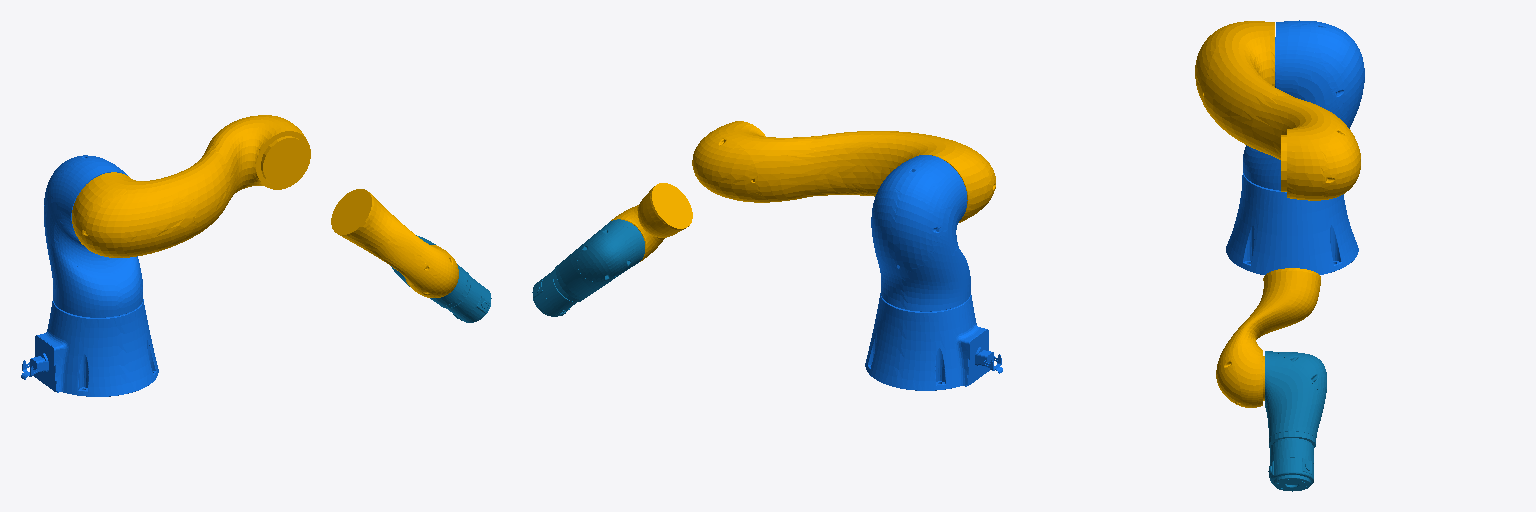
The robot description file, URDF, robot "hsr_co602a":
<robot
  name="hsr_co602a">

<!--
  <link name="world"/>

  <joint name="fixed" type="fixed">
    <parent link="world"/>
    <child link="link_base"/>
	<origin
      xyz="0 0 1"
      rpy="0 0 0" />
  </joint> 
-->
  <link
    name="link_base">
    <inertial>
      <origin
        xyz="-0.0024614 3.992E-07 0.076752"
        rpy="0 0 0" />
      <mass
        value="4.8818" />
      <inertia
        ixx="0"
        ixy="0"
        ixz="0"
        iyy="0"
        iyz="0"
        izz="0" />
    </inertial>
    <visual>
      <origin
        xyz="0 0 0"
        rpy="0 0 0" />
      <geometry>
        <mesh
          filename="package://hsr_description/meshes/co602a/link_base.STL" />
      </geometry>
      <material
        name="">
        <color
          rgba="0.1137 0.5098 0.97 1" />
      </material>
    </visual>
    <collision>
      <origin
        xyz="0 0 0"
        rpy="0 0 0" />
      <geometry>
        <mesh
          filename="package://hsr_description/meshes/co602a/link_base.STL" />
      </geometry>
    </collision>
  </link>
  <link
    name="link1">
    <inertial>
      <origin
        xyz="-3.4523E-06 -0.02843 0.064536"
        rpy="0 0 0" />
      <mass
        value="4.9839" />
      <inertia
        ixx="0"
        ixy="0"
        ixz="0"
        iyy="0"
        iyz="0"
        izz="0" />
    </inertial>
    <visual>
      <origin
        xyz="0 0 0"
        rpy="0 0 0" />
      <geometry>
        <mesh
          filename="package://hsr_description/meshes/co602a/link1.STL" />
      </geometry>
      <material
        name="">
        <color
          rgba="0.1137 0.5098 0.97 1" />
      </material>
    </visual>
    <collision>
      <origin
        xyz="0 0 0"
        rpy="0 0 0" />
      <geometry>
        <mesh
          filename="package://hsr_description/meshes/co602a/link1.STL" />
      </geometry>
    </collision>
  </link>
  <joint
    name="joint_1"
    type="revolute">
    <origin
      xyz="0 0 0.352"
      rpy="3.1416 0 -3.4694E-18" />
    <parent
      link="link_base" />
    <child
      link="link1" />
    <axis
      xyz="0 0 -1" />
    <limit
      lower="-3.490658503988"
      upper="3.490658503988"
      effort="28"
      velocity="3.2" />
    <safety_controller
      soft_upper_limit="3.481931857728"
      soft_lower_limit="-3.481931857728"
      k_position="100"
      k_velocity="10" />
  </joint>
  <link
    name="link2">
    <inertial>
      <origin
        xyz="4.7574E-06 -0.18488 -0.037843"
        rpy="0 0 0" />
      <mass
        value="6.6939" />
      <inertia
        ixx="0"
        ixy="0"
        ixz="0"
        iyy="0"
        iyz="0"
        izz="0" />
    </inertial>
    <visual>
      <origin
        xyz="0 0 0"
        rpy="0 0 0" />
      <geometry>
        <mesh
          filename="package://hsr_description/meshes/co602a/link2.STL" />
      </geometry>
      <material
        name="">
        <color
          rgba="0.97 0.7 0 1" />
      </material>
    </visual>
    <collision>
      <origin
        xyz="0 0 0"
        rpy="0 0 0" />
      <geometry>
        <mesh
          filename="package://hsr_description/meshes/co602a/link2.STL" />
      </geometry>
    </collision>
  </link>
  <joint
    name="joint_2"
    type="revolute">
    <origin
      xyz="0 0 0"
      rpy="1.5708 -1.5708 0" />
    <parent
      link="link1" />
    <child
      link="link2" />
    <axis
      xyz="0 0 1" />
    <limit
      lower="-2.268928027592"
      upper="1"
      effort="28"
      velocity="3.2" />
    <safety_controller
      soft_upper_limit="1"
      soft_lower_limit="-2.260201381332"
      k_position="100"
      k_velocity="10" />
  </joint>
  <link
    name="link3">
    <inertial>
      <origin
        xyz="-4.098E-05 -0.085254 -0.035956"
        rpy="0 0 0" />
      <mass
        value="2.3223" />
      <inertia
        ixx="0"
        ixy="0"
        ixz="0"
        iyy="0"
        iyz="0"
        izz="0" />
    </inertial>
    <visual>
      <origin
        xyz="0 0 0"
        rpy="0 0 0" />
      <geometry>
        <mesh
          filename="package://hsr_description/meshes/co602a/link3.STL" />
      </geometry>
      <material
        name="">
        <color
          rgba="0.1137 0.5098 0.97 1" />
      </material>
    </visual>
    <collision>
      <origin
        xyz="0 0 0"
        rpy="0 0 0" />
      <geometry>
        <mesh
          filename="package://hsr_description/meshes/co602a/link3.STL" />
      </geometry>
    </collision>
  </link>
  <joint
    name="joint_3"
    type="revolute">
    <origin
      xyz="0 -0.4 0"
      rpy="6.3741E-17 1.5386E-16 -1.5708" />
    <parent
      link="link2" />
    <child
      link="link3" />
    <axis
      xyz="0 0 1" />
    <limit
      lower="1"
      upper="3.665191429188"
      effort="28"
      velocity="3.2" />
    <safety_controller
      soft_upper_limit="3.656464782928"
      soft_lower_limit="0.008726646259"
      k_position="100"
      k_velocity="10" />
  </joint>
  <link
    name="link4">
    <inertial>
      <origin
        xyz="0.049627 2.6934E-06 0.3246"
        rpy="0 0 0" />
      <mass
        value="1.3111" />
      <inertia
        ixx="0"
        ixy="0"
        ixz="0"
        iyy="0"
        iyz="0"
        izz="0" />
    </inertial>
    <visual>
      <origin
        xyz="0 0 0"
        rpy="0 0 0" />
      <geometry>
        <mesh
          filename="package://hsr_description/meshes/co602a/link4.STL" />
      </geometry>
      <material
        name="">
        <color
          rgba="0.97 0.7 0 1" />
      </material>
    </visual>
    <collision>
      <origin
        xyz="0 0 0"
        rpy="0 0 0" />
      <geometry>
        <mesh
          filename="package://hsr_description/meshes/co602a/link4.STL" />
      </geometry>
    </collision>
  </link>
  <joint
    name="joint_4"
    type="revolute">
    <origin
      xyz="0 0 0"
      rpy="1.5708 1.5708 0" />
    <parent
      link="link3" />
    <child
      link="link4" />
    <axis
      xyz="0 0 1" />
    <limit
      lower="-3.141592653589"
      upper="3.141592653589"
      effort="28"
      velocity="3.2" />
    <safety_controller
      soft_upper_limit="3.132866007329"
      soft_lower_limit="-3.132866007329"
      k_position="100"
      k_velocity="10" />
  </joint>
  <link
    name="link5">
    <inertial>
      <origin
        xyz="1.2952E-06 -0.043824 0.0021728"
        rpy="0 0 0" />
      <mass
        value="1.1683" />
      <inertia
        ixx="0"
        ixy="0"
        ixz="0"
        iyy="0"
        iyz="0"
        izz="0" />
    </inertial>
    <visual>
      <origin
        xyz="0 0 0"
        rpy="0 0 0" />
      <geometry>
        <mesh
          filename="package://hsr_description/meshes/co602a/link5.STL" />
      </geometry>
      <material
        name="">
        <color
          rgba="0.113 0.5098 0.7 1" />
      </material>
    </visual>
    <collision>
      <origin
        xyz="0 0 0"
        rpy="0 0 0" />
      <geometry>
        <mesh
          filename="package://hsr_description/meshes/co602a/link5.STL" />
      </geometry>
    </collision>
  </link>
  <joint
    name="joint_5"
    type="revolute">
    <origin
      xyz="0 0 0.39901"
      rpy="-1.5708 1.8044E-17 1.5708" />
    <parent
      link="link4" />
    <child
      link="link5" />
    <axis
      xyz="0 0 1" />
    <limit
      lower="-2.268928027592"
      upper="2.268928027592"
      effort="28"
      velocity="3.2" />
    <safety_controller
      soft_upper_limit="2.260201381332"
      soft_lower_limit="-2.260201381332"
      k_position="100"
      k_velocity="10" />
  </joint>
  <link
    name="link6">
    <inertial>
      <origin
        xyz="-3.5784E-05 3.8806E-05 -0.025197"
        rpy="0 0 0" />
      <mass
        value="0.20458" />
      <inertia
        ixx="0"
        ixy="0"
        ixz="0"
        iyy="0"
        iyz="0"
        izz="0" />
    </inertial>
    <visual>
      <origin
        xyz="0 0 0"
        rpy="0 0 0" />
      <geometry>
        <mesh
          filename="package://hsr_description/meshes/co602a/link6.STL" />
      </geometry>
      <material
        name="">
        <color
          rgba="0.113 0.5098 0.7 1" />
      </material>
    </visual>
    <collision>
      <origin
        xyz="0 0 0"
        rpy="0 0 0" />
      <geometry>
        <mesh
          filename="package://hsr_description/meshes/co602a/link6.STL" />
      </geometry>
    </collision>
  </link>
  <joint
    name="joint_6"
    type="revolute">
    <origin
      xyz="0 -0.19849 0"
      rpy="-1.5708 1.0064E-16 -3.1416" />
    <parent
      link="link5" />
    <child
      link="link6" />
    <axis
      xyz="0 0 1" />
    <limit
      lower="-6.283185307179"
      upper="6.283185307179"
      effort="28"
      velocity="3.2" />
    <safety_controller
      soft_upper_limit="6.274458660919"
      soft_lower_limit="-6.274458660919"
      k_position="100"
      k_velocity="10" />
  </joint>

<gazebo>
    <plugin name="gazebo_ros_control" filename="libgazebo_ros_control.so">
      <robotNamespace>/</robotNamespace>
      <robotSimType>gazebo_ros_control/DefaultRobotHWSim</robotSimType>
    </plugin>
  </gazebo>

  <transmission name="tran1">
    <type>transmission_interface/SimpleTransmission</type>
    <joint name="joint_1">
      <hardwareInterface>PositionJointInterface</hardwareInterface>
    </joint>
    <actuator name="motor1">
      <hardwareInterface>PositionJointInterface</hardwareInterface>
      <mechanicalReduction>1</mechanicalReduction>
    </actuator>
  </transmission>

  <transmission name="tran2">
    <type>transmission_interface/SimpleTransmission</type>
    <joint name="joint_2">
      <hardwareInterface>PositionJointInterface</hardwareInterface>
    </joint>
    <actuator name="motor2">
      <hardwareInterface>PositionJointInterface</hardwareInterface>
      <mechanicalReduction>1</mechanicalReduction>
    </actuator>
  </transmission>

  <transmission name="tran3">
    <type>transmission_interface/SimpleTransmission</type>
    <joint name="joint_3">
      <hardwareInterface>PositionJointInterface</hardwareInterface>
    </joint>
    <actuator name="motor3">
      <hardwareInterface>PositionJointInterface</hardwareInterface>
      <mechanicalReduction>1</mechanicalReduction>
    </actuator>
  </transmission>

  <transmission name="tran4">
    <type>transmission_interface/SimpleTransmission</type>
    <joint name="joint_4">
      <hardwareInterface>PositionJointInterface</hardwareInterface>
    </joint>
    <actuator name="motor4">
      <hardwareInterface>PositionJointInterface</hardwareInterface>
      <mechanicalReduction>1</mechanicalReduction>
    </actuator>
  </transmission>

  <transmission name="tran5">
    <type>transmission_interface/SimpleTransmission</type>
    <joint name="joint_5">
      <hardwareInterface>PositionJointInterface</hardwareInterface>
    </joint>
    <actuator name="motor5">
      <hardwareInterface>PositionJointInterface</hardwareInterface>
      <mechanicalReduction>1</mechanicalReduction>
    </actuator>
  </transmission>

  <transmission name="tran6">
    <type>transmission_interface/SimpleTransmission</type>
    <joint name="joint_6">
      <hardwareInterface>PositionJointInterface</hardwareInterface>
    </joint>
    <actuator name="motor6">
      <hardwareInterface>PositionJointInterface</hardwareInterface>
      <mechanicalReduction>1</mechanicalReduction>
    </actuator>
  </transmission>

</robot>

--- What the picture shows (computed from the rendered views, not written in the file) ---
Views: 3 orthographic renders of the robot side by side, from view 1: azimuth 30°, elevation 25°; view 2: azimuth 150°, elevation 25°; view 3: azimuth 270°, elevation 25°.
Model hsr_co602a with 7 links and 6 joints (6 revolute), rooted at link_base, posed joints at zero except 1 at the middle of their limits (joint_3 = 2.33).
Links seen in each view (by area): view 1: link2, link_base, link1, link4, link6, link5; view 2: link2, link1, link_base, link5, link4, link6; view 3: link2, link_base, link1, link4, link5, link6.
Boxes of the visible links, x1,y1,x2,y2 form: link2: (72,115,310,257); link_base: (21,299,158,396); link1: (44,155,142,317); link4: (331,189,458,297); link6: (446,276,491,322); link5: (391,235,470,307); link2: (692,121,995,222); link1: (871,155,970,311); link_base: (865,293,1002,390); link5: (553,219,644,301); link4: (611,183,692,261); link6: (532,270,576,316); link2: (1195,21,1360,200); link_base: (1226,173,1358,274); link1: (1243,20,1364,190); link4: (1216,268,1320,407); link5: (1265,351,1326,447); link6: (1268,440,1313,491).
Bounding box of the posed robot: 1.02 × 0.2939 × 0.5138 m (x, y, z).
6 mesh visuals loaded from 7 distinct referenced files (6 binary STL); not drawn: 1 (reference not matched to a file when rendering).